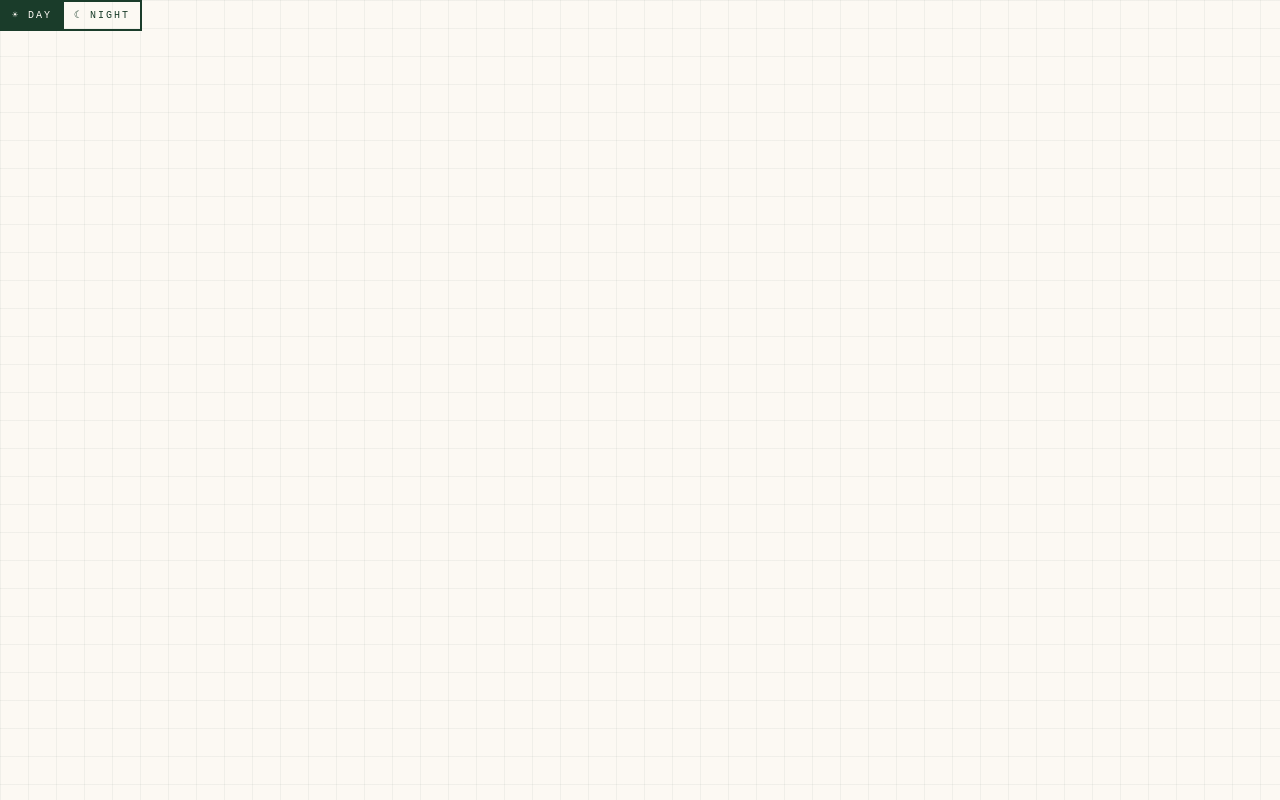
Specimen Grid accessibility › exposes the theme toggle as a labelled pressable group
Expected: the element named "Color theme" is shown, [0,0,142,31]
Click the button with aria-label "Dark theme" at point(102, 16), box [64,2,140,29]
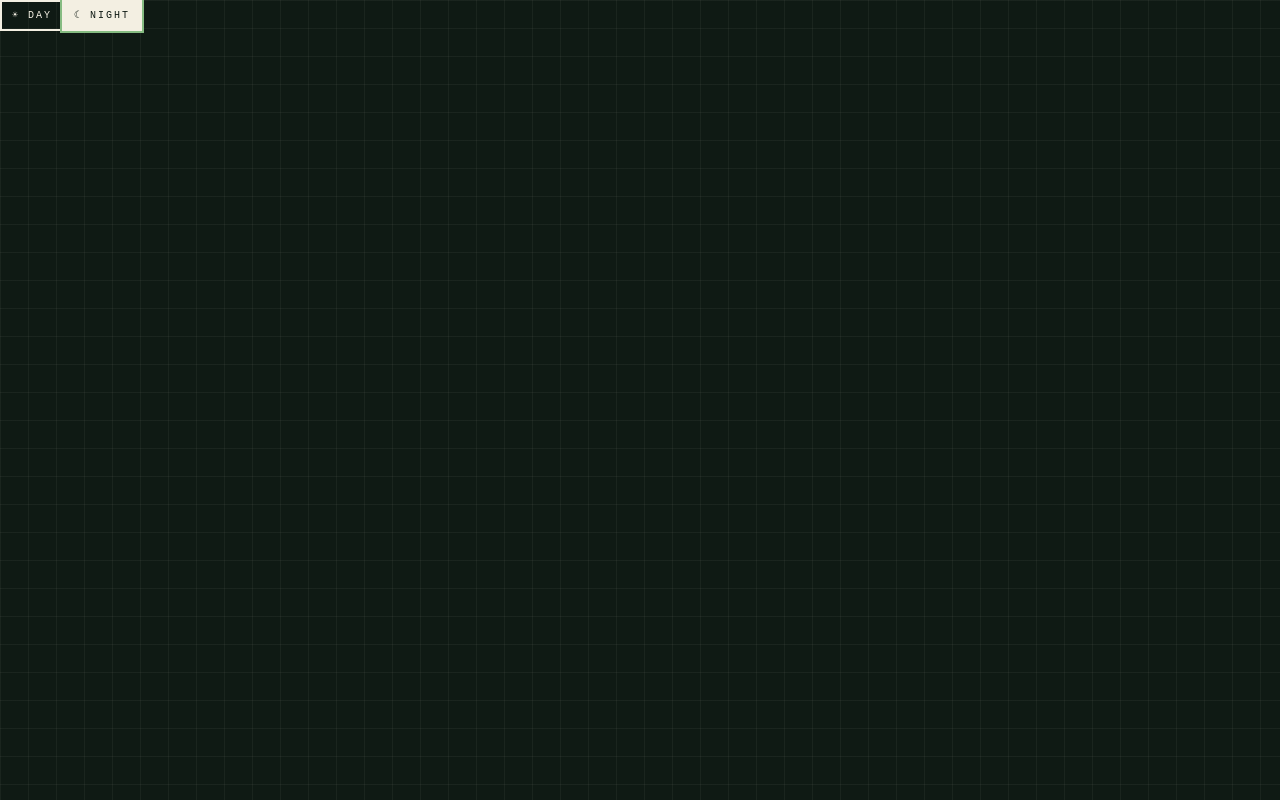
Now the button with aria-label "Dark theme" is pressed, box [64,2,140,29]
